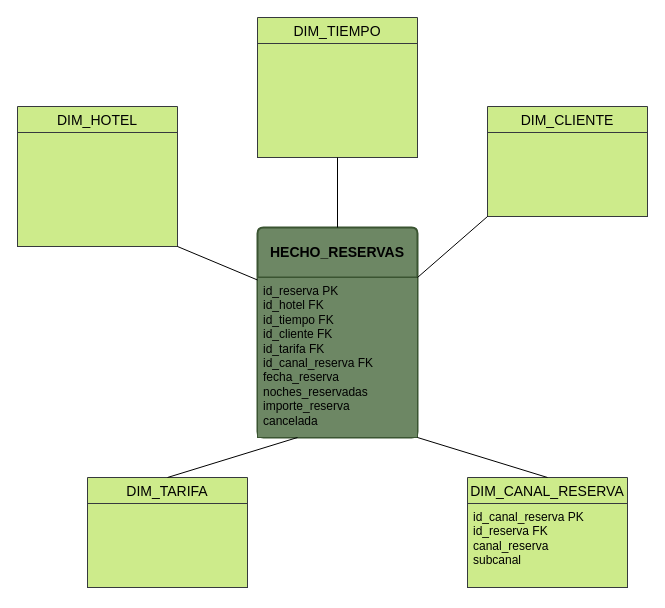
The diagram is 665 pixels wide and 608 high, and some of its shapes have lost their labels. The shapes that lost their labels are listed below. From the top down, each one's centre as x and y in pixels, then its label:
(x=337, y=100): id_tiempo PK id_reserva FK fecha mes trimestre año temporada
(x=97, y=189): id_hotel PK id_reserva FK hotel categoria ciudad provincia comunidad_autonoma
(x=567, y=174): id_cliente PK id_reserva FK cliente pais_origen tipo_cliente
(x=167, y=545): id_tarifa PK id_reserva FK tarifa tipo_pension paquete_contratado
